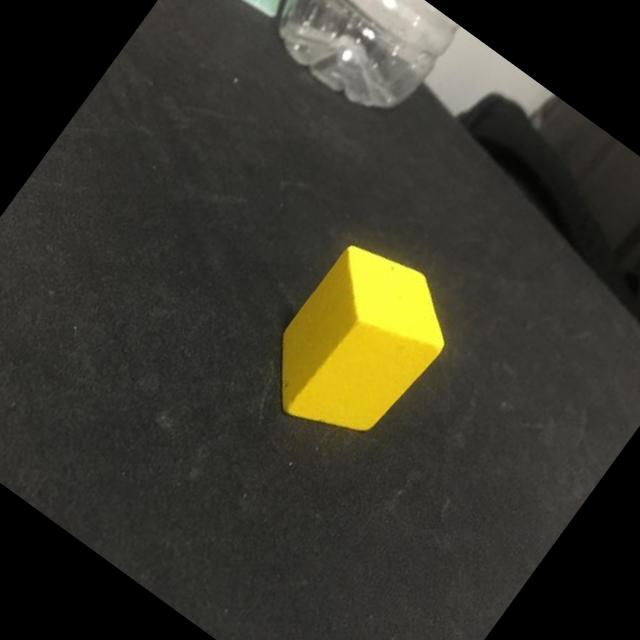yellow: (244, 228, 471, 467)
